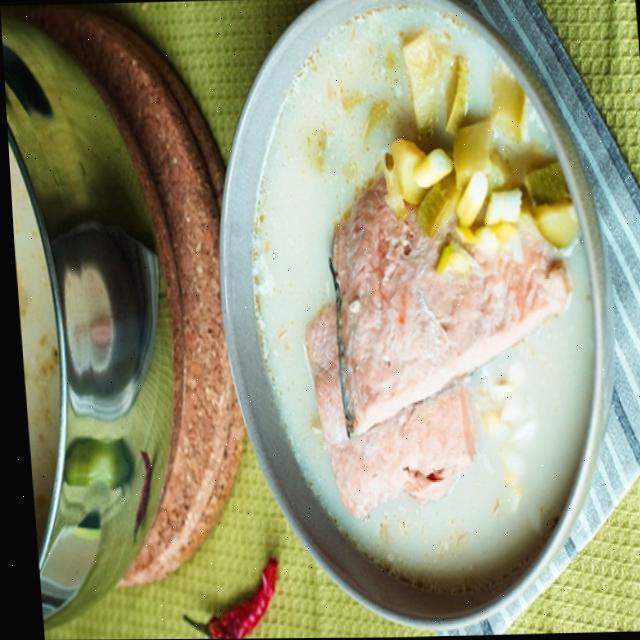汤锅炖物: (179, 4, 613, 597)
